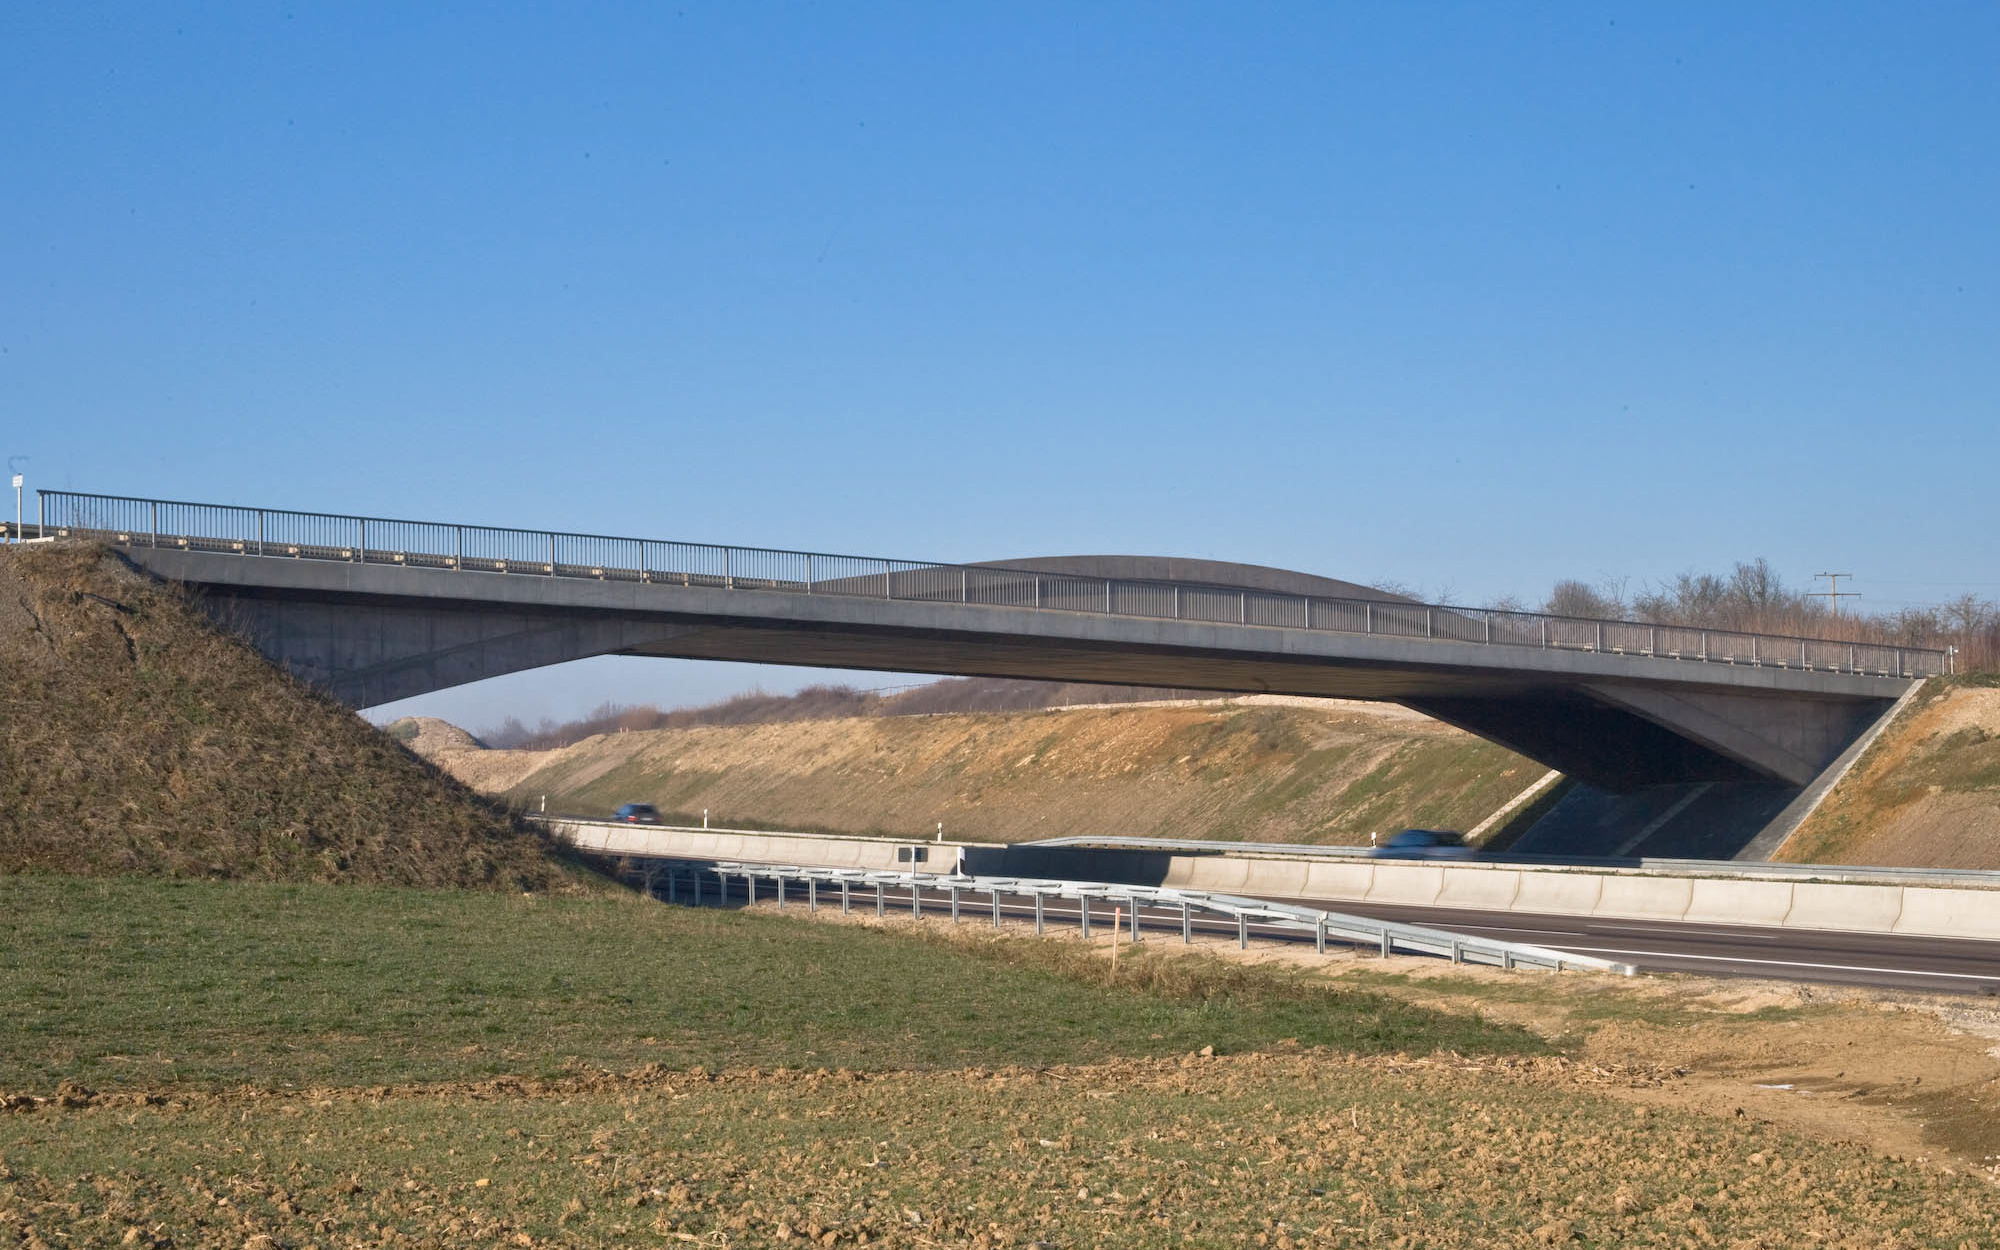bridge: (37, 482, 1958, 851)
